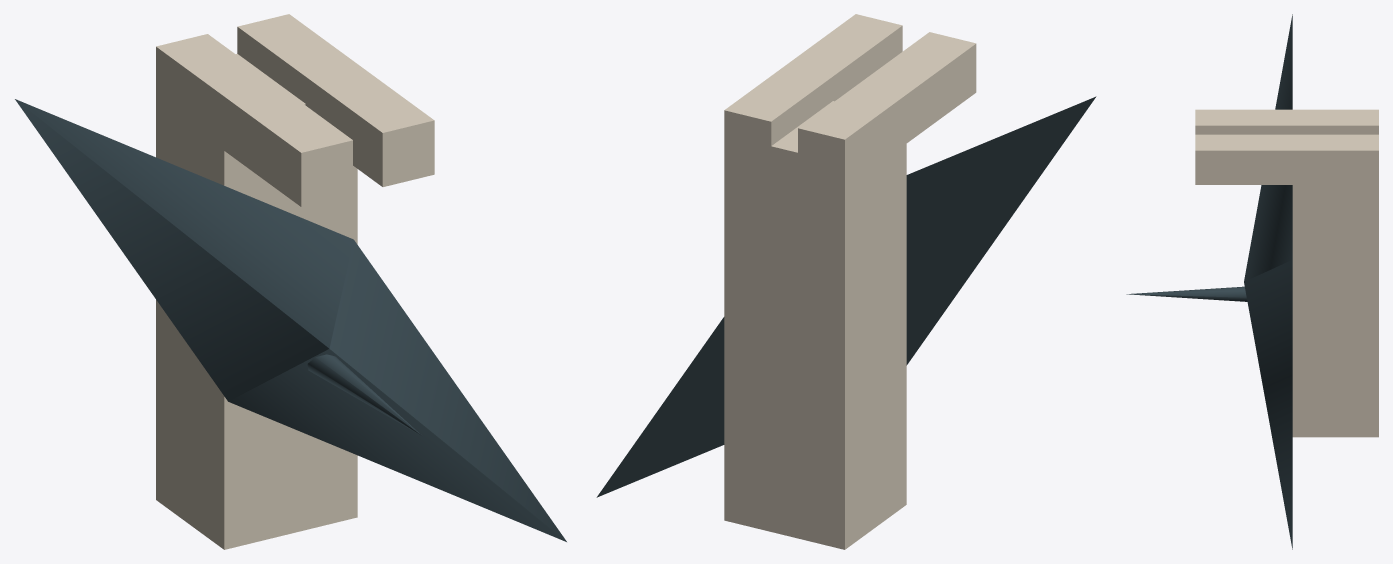
File: notre_dame.glb
The picture shows the model from 3 angles, left to right: view 1: azimuth 30°, elevation 25°; view 2: azimuth 150°, elevation 25°; view 3: azimuth 270°, elevation 25°; orthographic projection. The views are drawn at different scales.
Visible parts, largest first — view 1: Notre-Dame; view 2: Notre-Dame; view 3: Notre-Dame.
Boxes of the visible parts, x1=… form: Notre-Dame: x1=15, y1=14, x2=566, y2=549; Notre-Dame: x1=596, y1=14, x2=1096, y2=549; Notre-Dame: x1=1126, y1=14, x2=1378, y2=549.
Size of the model in its own units: 149 by 149 by 94.
